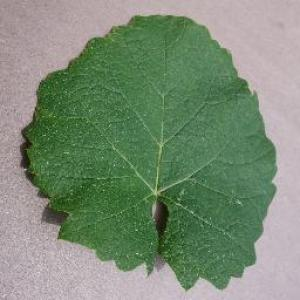Folha: (20, 13, 278, 291)
